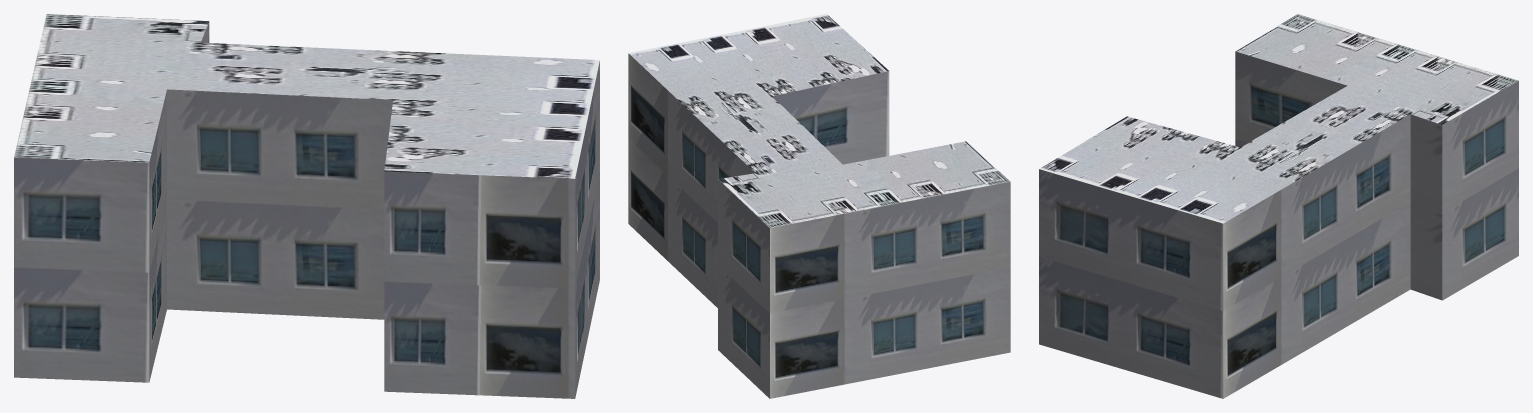
The model's file is ResTex__169.fbx.
3 renders of one model, left to right at view 1: azimuth 30°, elevation 25°; view 2: azimuth 150°, elevation 25°; view 3: azimuth 270°, elevation 25°, orthographic. The views are drawn at different scales.
Parts seen in each view (by area): view 1: CityEngineMaterial_10_m, CityEngineMaterial_m; view 2: CityEngineMaterial_10_m, CityEngineMaterial_m; view 3: CityEngineMaterial_10_m, CityEngineMaterial_m.
Part boxes in pixels (bbox=[...]): CityEngineMaterial_10_m: bbox=[14, 21, 599, 398]; CityEngineMaterial_m: bbox=[14, 14, 599, 178]; CityEngineMaterial_10_m: bbox=[628, 53, 1010, 398]; CityEngineMaterial_m: bbox=[628, 14, 1009, 227]; CityEngineMaterial_10_m: bbox=[1039, 51, 1518, 398]; CityEngineMaterial_m: bbox=[1039, 14, 1518, 223].
Bounding box in the file's own units: 15.38 × 6 × 14.88.
Materials: 2 (2 with a texture image).
